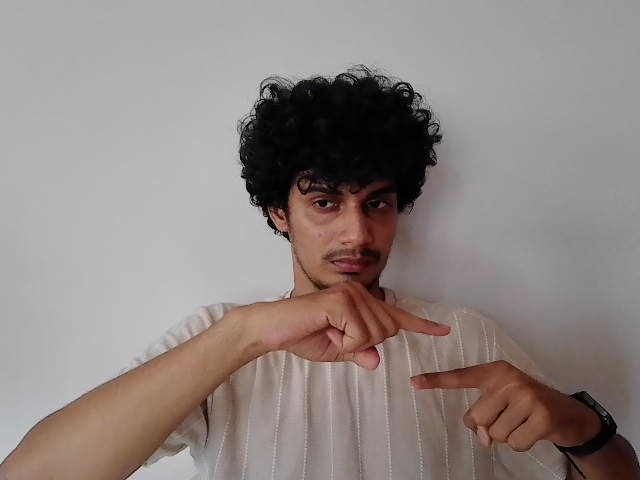about: (230, 281, 557, 454)
